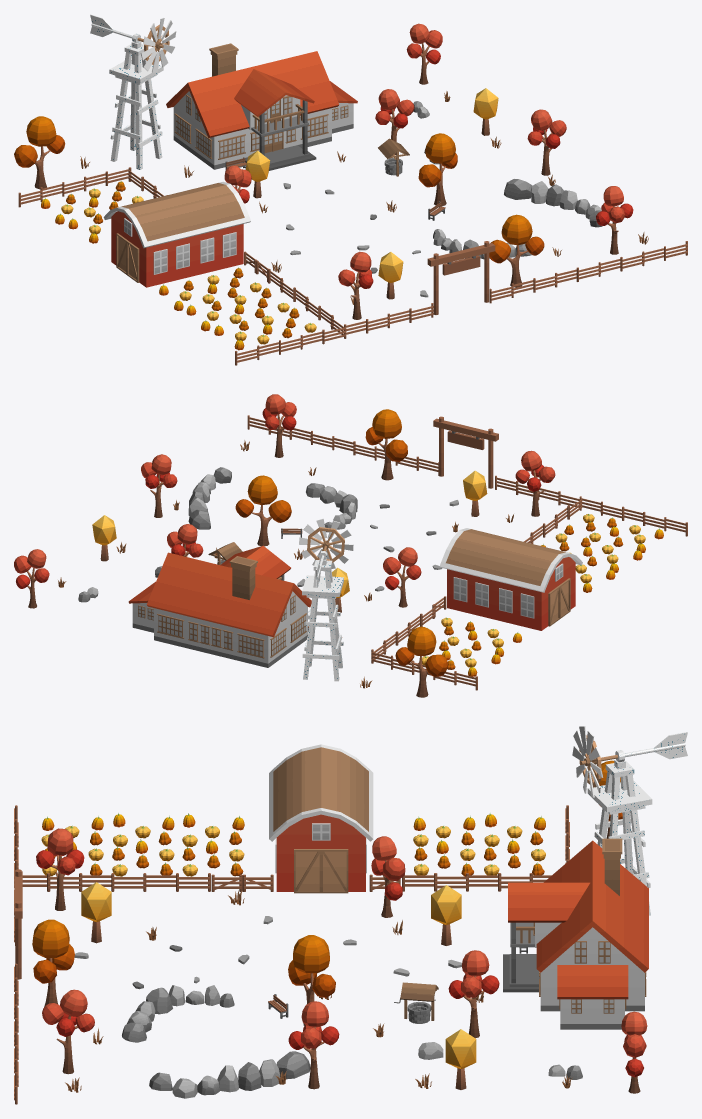
The model's file is autumn_harvest.glb.
3 views of the same model, one above another, from view 1: azimuth 30°, elevation 25°; view 2: azimuth 150°, elevation 25°; view 3: azimuth 270°, elevation 25° (orthographic). The views are drawn at different scales.
Parts seen in each view (by area): view 1: farm house_1, farm barn_17, farm windmill_114, autumn tree 9 (2)_89, entrance farm_93, autumn tree 9_43, autumn tree 9 (1)_14, autumn tree 11 (2)_123, autumn tree 10 (1)_10, autumn tree 11 (1)_106, autumn tree 11_69, autumn tree 11 (3)_11 (+5 smaller); view 2: farm house_1, farm barn_17, farm windmill_114, autumn tree 9 (1)_14, autumn tree 9_43, entrance farm_93, autumn tree 9 (2)_89, autumn tree 11_69, autumn tree 11 (1)_106, autumn tree 10_47, autumn tree 10 (1)_10, autumn tree 11 (2)_123 (+3 smaller); view 3: farm house_1, farm barn_17, farm windmill_114, autumn tree 9 (2)_89, autumn tree 9 (1)_14, autumn tree 11 (1)_106, autumn tree 11 (2)_123, autumn tree 11 (3)_11, autumn tree 11_69, autumn tree 10_47, autumn tree 10 (1)_10, well 2_12 (+10 smaller).
Boxes of the visible parts, x1,y1,x2,y2 form: farm house_1: [166, 43, 357, 170]; farm barn_17: [103, 181, 250, 287]; farm windmill_114: [90, 14, 176, 169]; autumn tree 9 (2)_89: [489, 214, 544, 287]; entrance farm_93: [427, 241, 495, 314]; autumn tree 9_43: [14, 116, 65, 189]; autumn tree 9 (1)_14: [418, 133, 457, 206]; autumn tree 11 (2)_123: [527, 109, 566, 175]; autumn tree 10 (1)_10: [406, 23, 442, 84]; autumn tree 11 (1)_106: [596, 186, 633, 254]; autumn tree 11_69: [338, 251, 373, 319]; autumn tree 11 (3)_11: [375, 89, 414, 154]; farm house_1: [128, 545, 311, 667]; farm barn_17: [439, 528, 582, 630]; farm windmill_114: [299, 518, 353, 681]; autumn tree 9 (1)_14: [235, 475, 291, 546]; autumn tree 9_43: [395, 626, 448, 697]; entrance farm_93: [433, 416, 498, 488]; autumn tree 9 (2)_89: [365, 409, 407, 480]; autumn tree 11_69: [515, 450, 555, 516]; autumn tree 11 (1)_106: [262, 394, 296, 457]; autumn tree 10_47: [383, 547, 421, 607]; autumn tree 10 (1)_10: [14, 549, 49, 608]; autumn tree 11 (2)_123: [141, 454, 177, 517]; farm house_1: [503, 838, 648, 1029]; farm barn_17: [269, 744, 373, 893]; farm windmill_114: [572, 726, 687, 915]; autumn tree 9 (2)_89: [32, 919, 74, 1007]; autumn tree 9 (1)_14: [288, 935, 335, 1025]; autumn tree 11 (1)_106: [42, 989, 94, 1074]; autumn tree 11 (2)_123: [288, 1001, 339, 1089]; autumn tree 11 (3)_11: [448, 950, 499, 1038]; autumn tree 11_69: [36, 828, 84, 910]; autumn tree 10_47: [371, 836, 405, 917]; autumn tree 10 (1)_10: [621, 1011, 647, 1093]; well 2_12: [394, 982, 438, 1023].
Bounding box in the file's own units: 19.39 × 6.19 × 19.6.
1 material, 1 textured.
